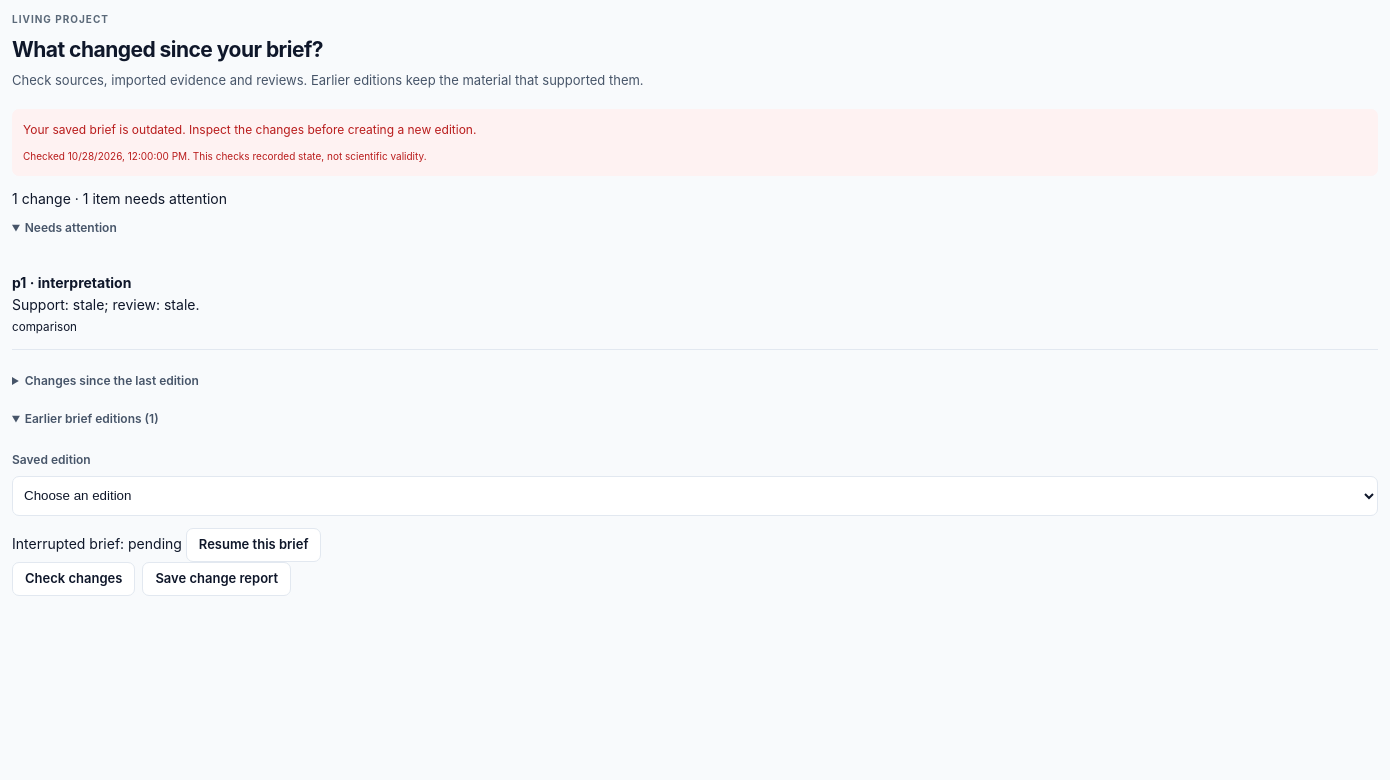
Test: keeps the history disclosure mounted while an older edition loads
The width and height of the screenshot is (1390, 780).
Select "10/28/2026, 11:00:00 AM · edition" in the dropdown labelled "Saved edition": [695, 496] box [12, 476, 1378, 516]
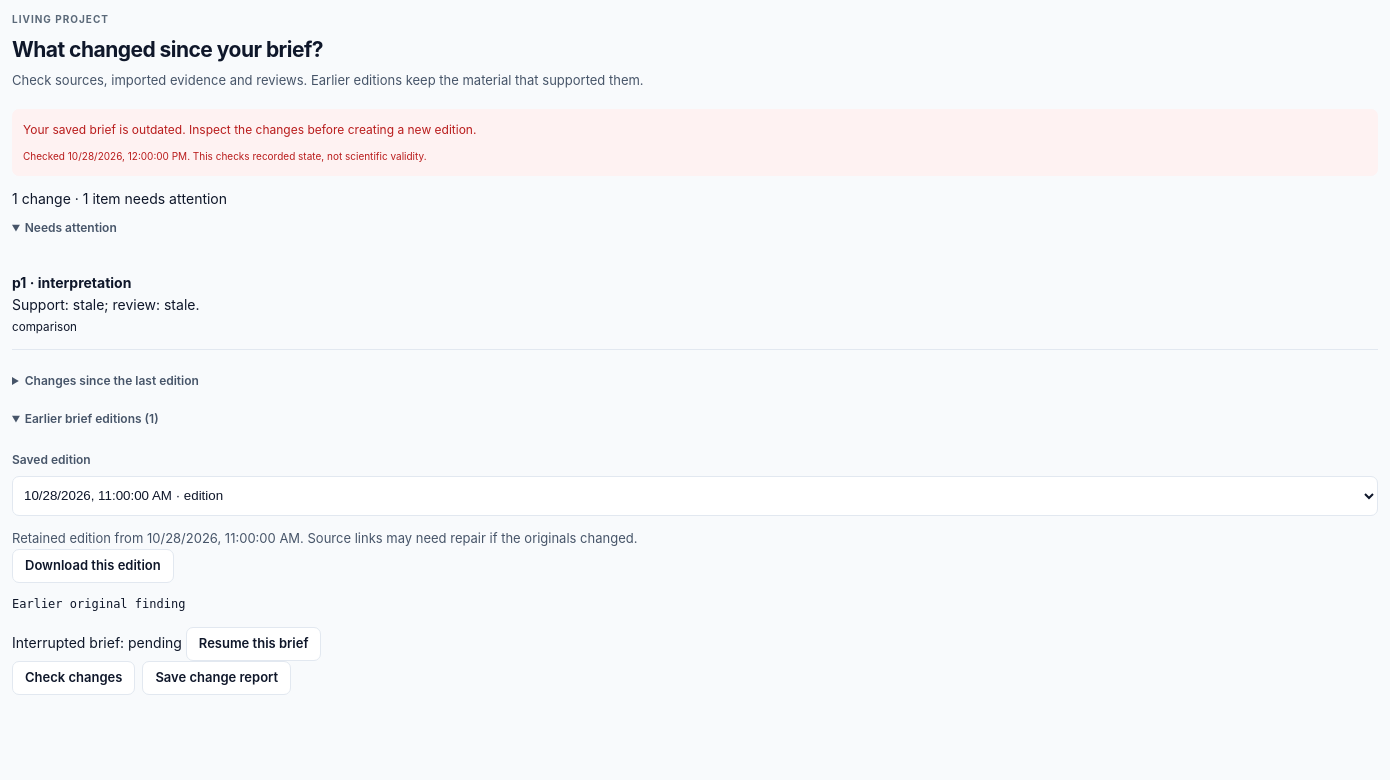
Result: the element that starts with "Earlier brief editions (" shows "Earlier original finding" at [12, 597, 185, 611]
